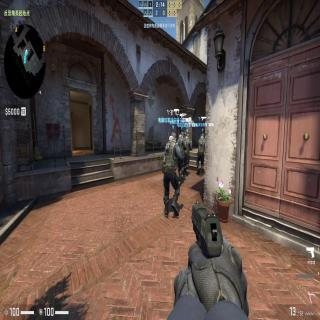CT-Body: (162, 132, 182, 218), (196, 133, 205, 177)
CT-Head: (170, 134, 176, 142), (180, 132, 184, 137), (186, 134, 190, 138), (201, 134, 205, 138)
